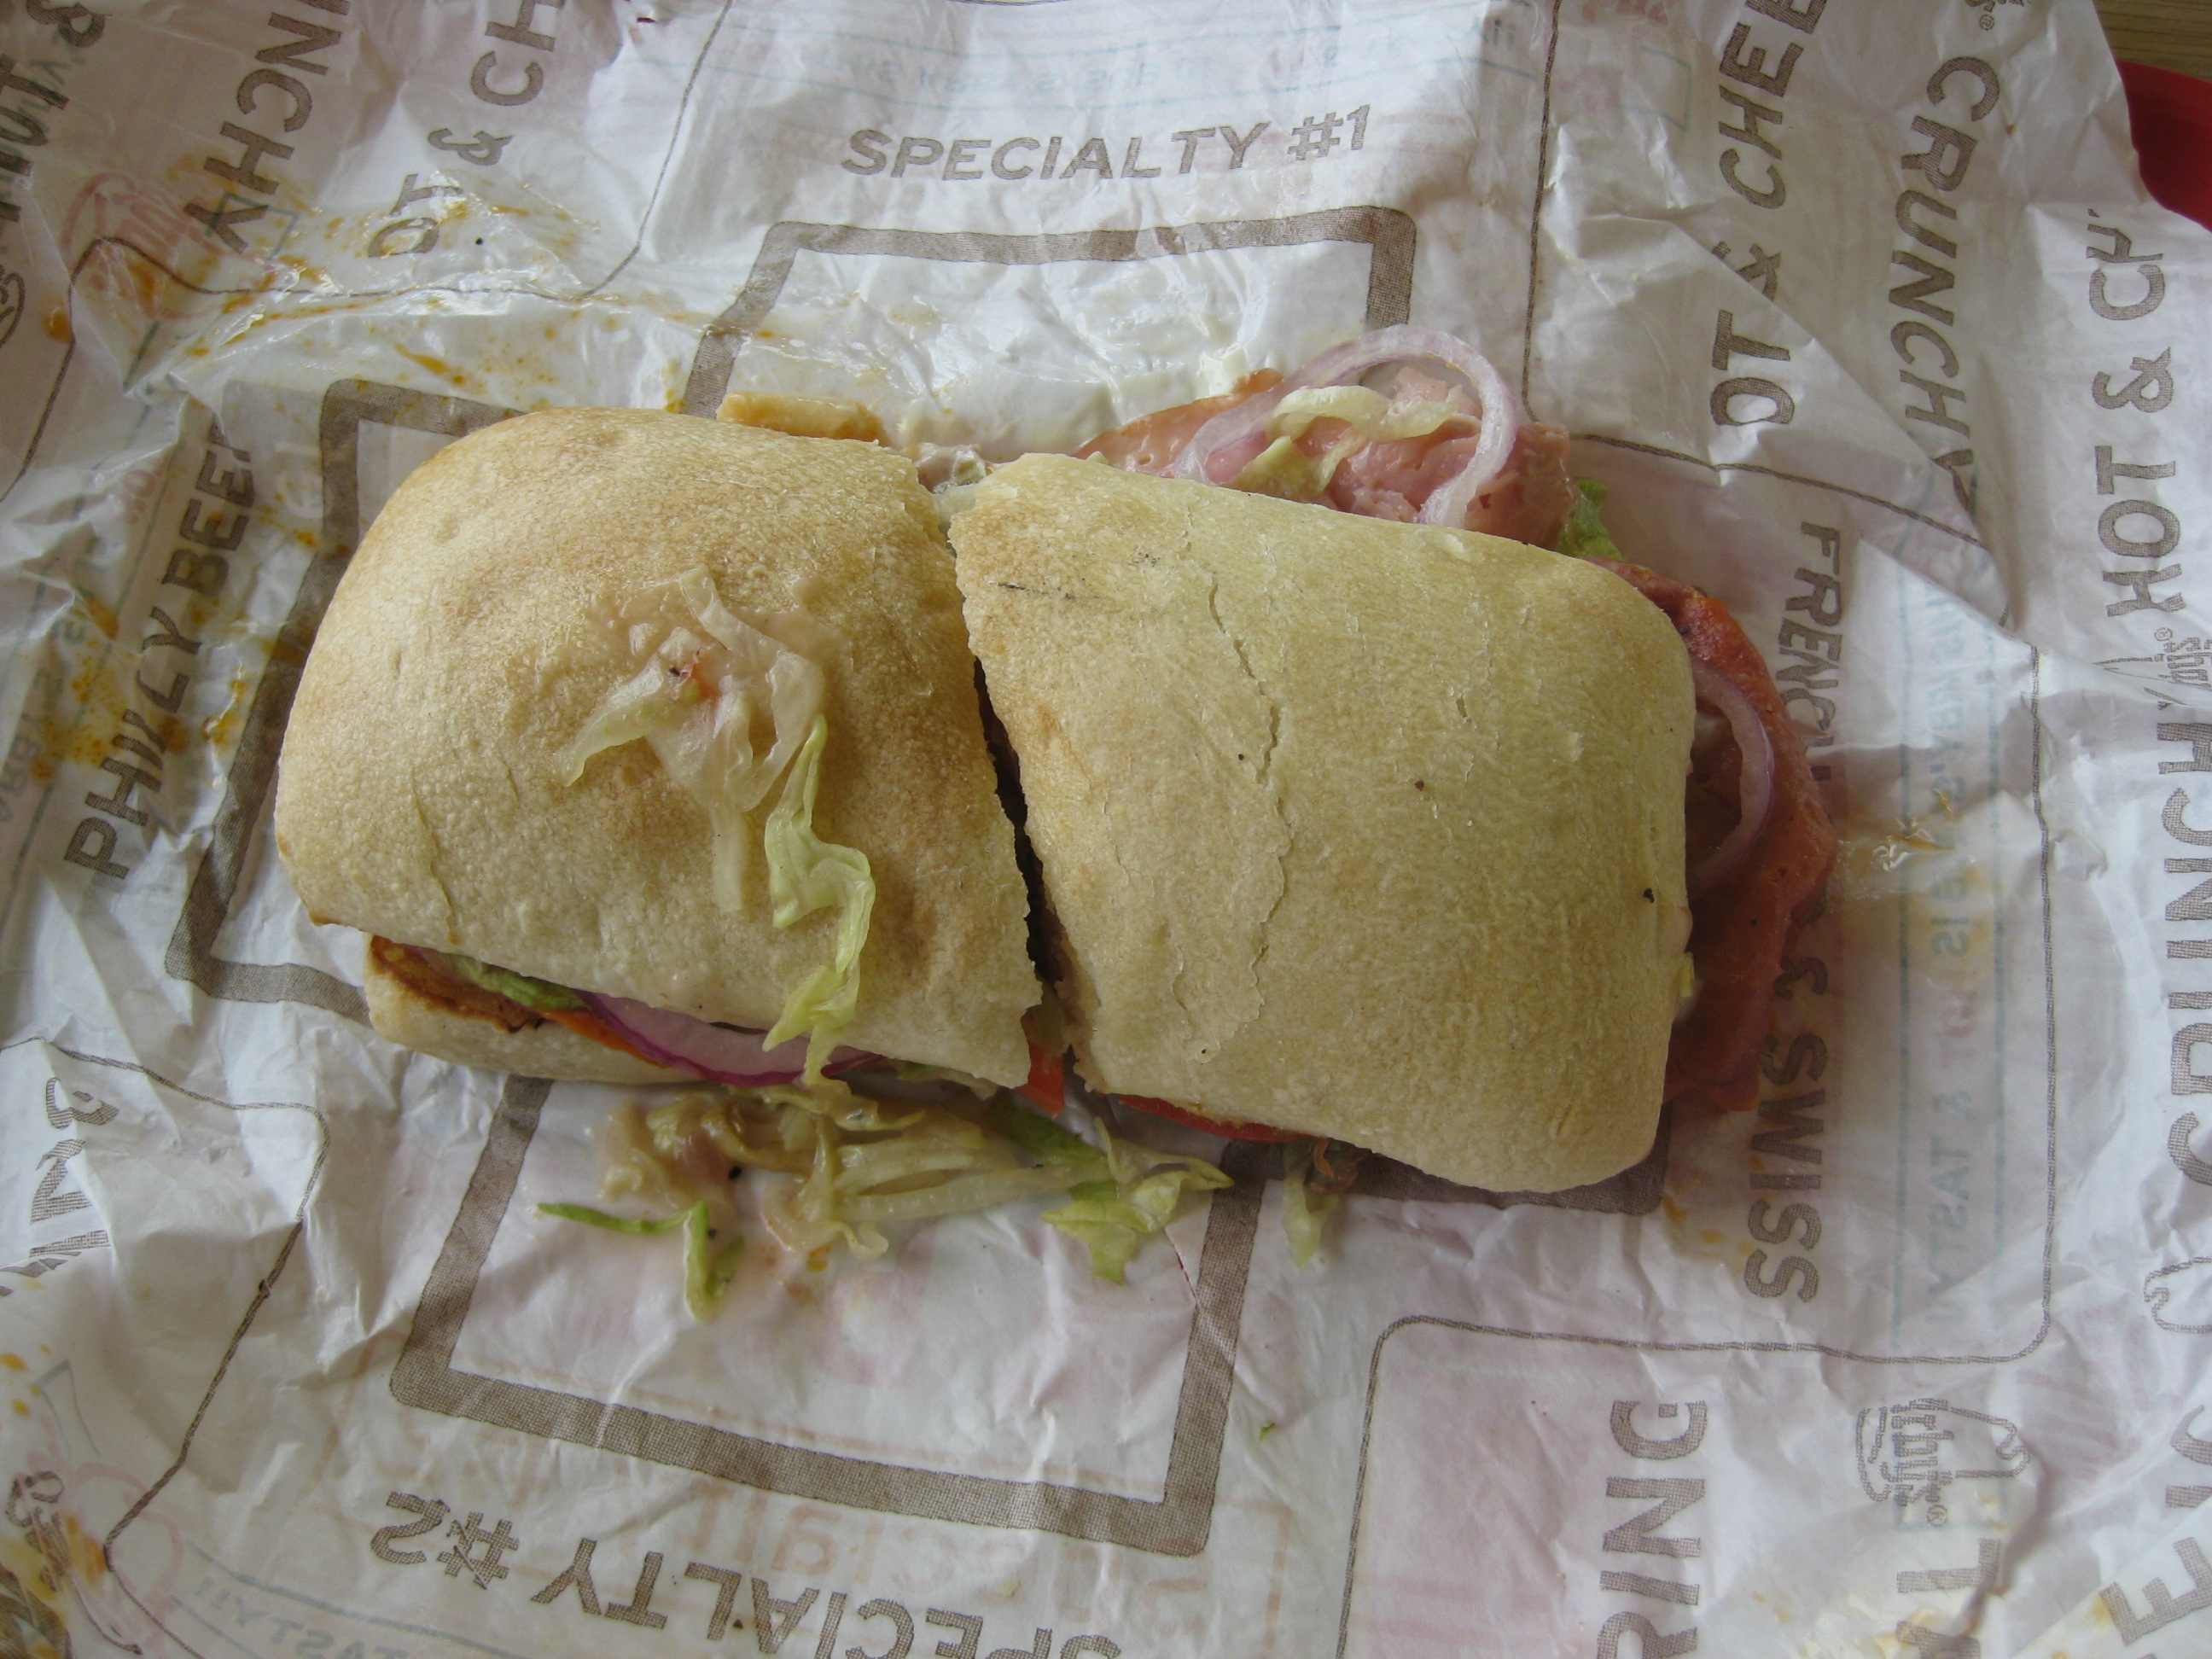sub: (271, 298, 1841, 1245)
